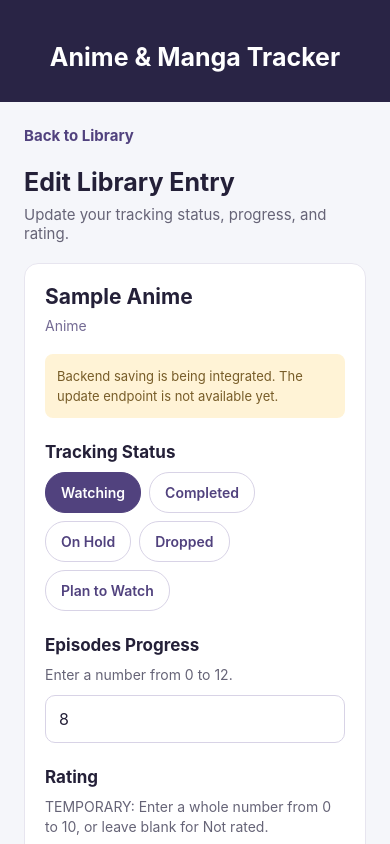
Edit Library Screen › rejects progress greater than the total
The width and height of the screenshot is (390, 844).
Replace the text in the field named "Episodes progress" with "13": x=195, y=719 [45,695,345,743]
(page scrolled)
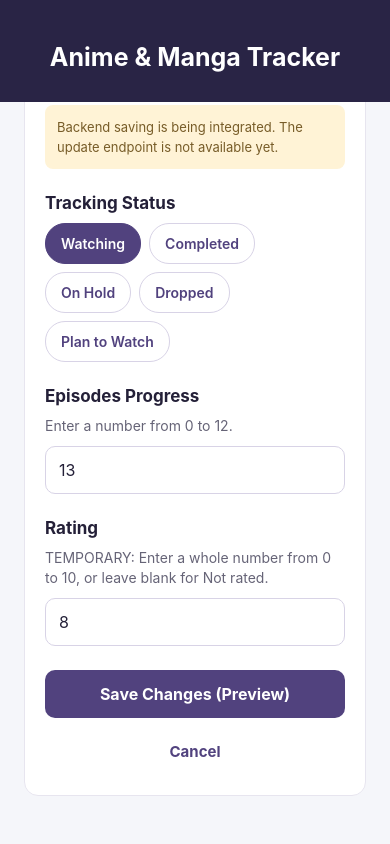
Click the button "Save Changes (Preview)": x=195, y=694 [45,670,345,718]
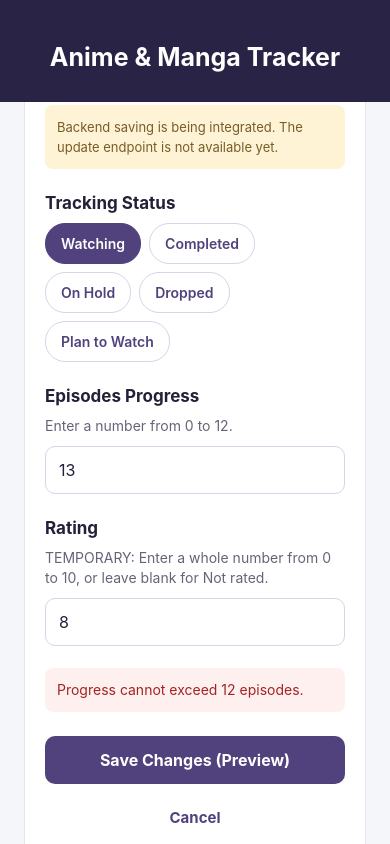
Now the text "Progress cannot exceed 12 episodes." is shown, box [57,680,333,700]
